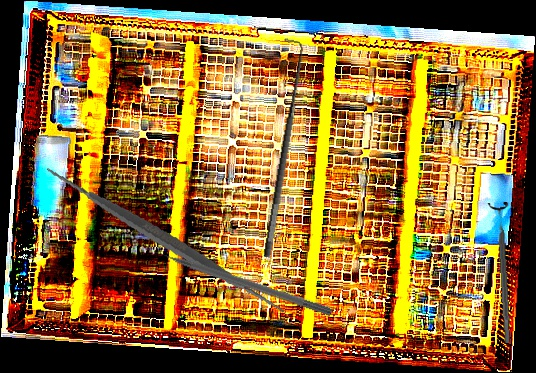Fixation Ring: (486, 201, 519, 345)
Hook Surgical: (246, 34, 312, 259)
Pusher: (143, 242, 334, 317)
Spatula Surgical: (44, 120, 288, 362)
